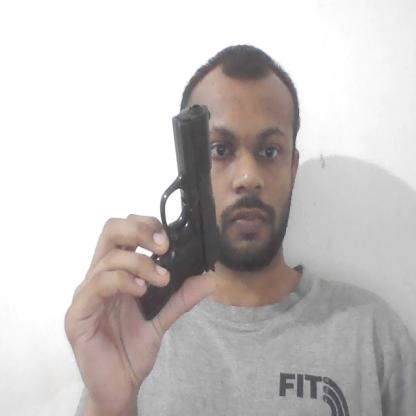handgun: (135, 101, 224, 322)
